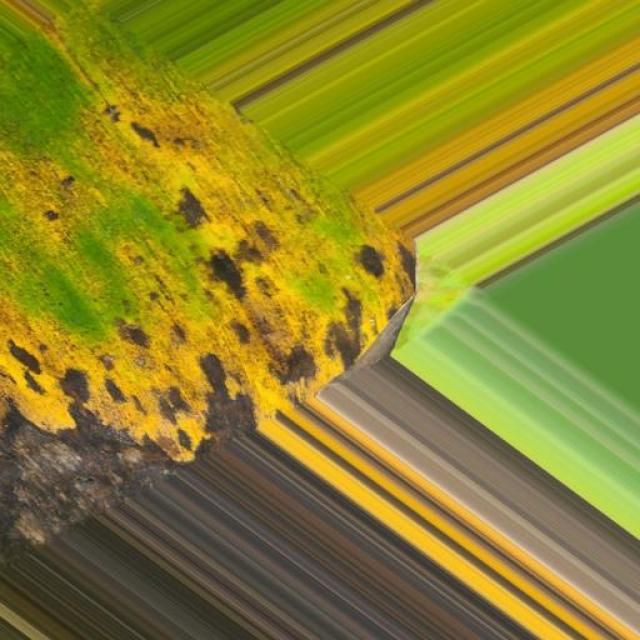Early_rust: (0, 0, 484, 561)
